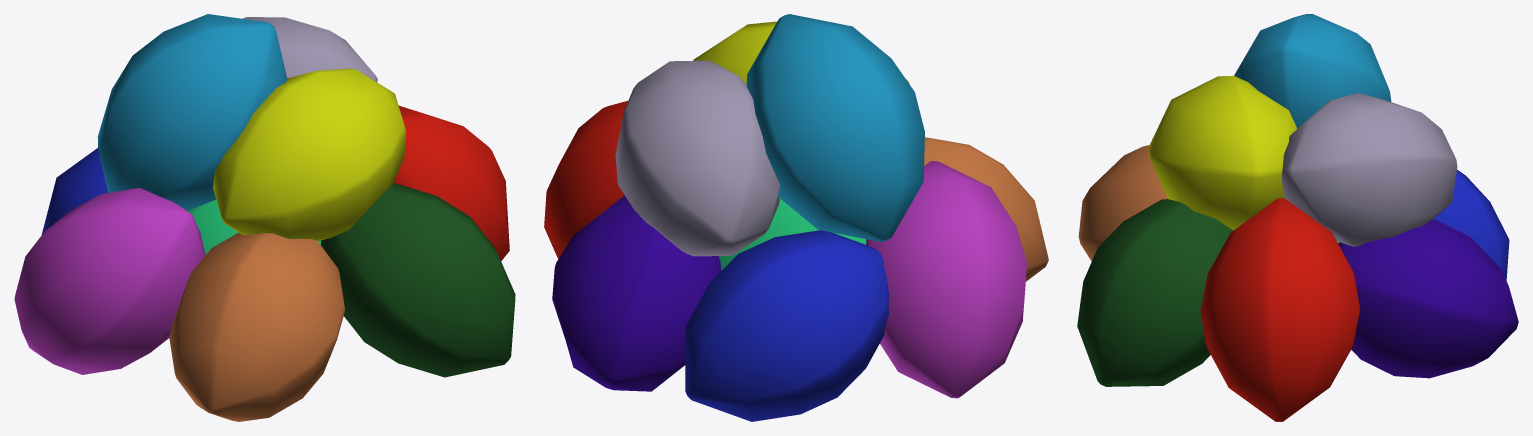
The model's file is SongPyeon.fbx.
3 views of the same model, side by side, from view 1: azimuth 30°, elevation 25°; view 2: azimuth 150°, elevation 25°; view 3: azimuth 270°, elevation 25° (orthographic). The views are drawn at different scales.
Parts seen in each view (by area): view 1: Songpyeon; view 2: Songpyeon; view 3: Songpyeon.
Part boxes in pixels (x1,y1,x2,y2): Songpyeon: (14, 14, 515, 421); Songpyeon: (544, 14, 1048, 421); Songpyeon: (1077, 14, 1518, 421).
Size of the model in its own units: 39.14 by 34.95 by 25.97.
